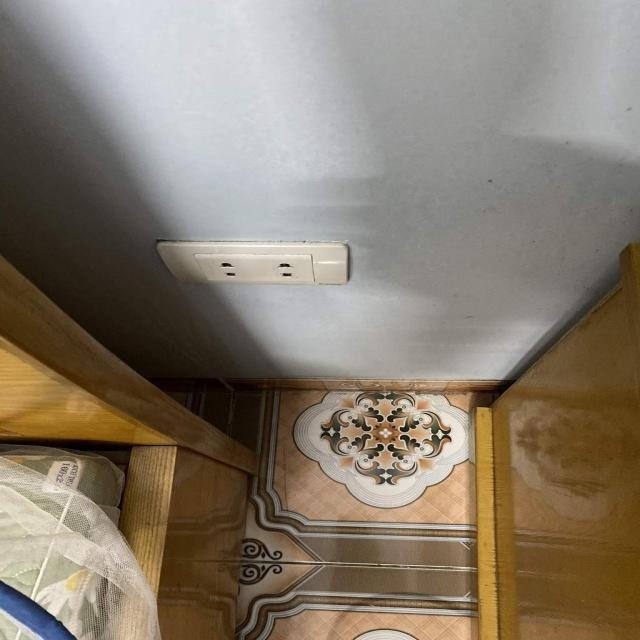outlet: (155, 240, 349, 286)
